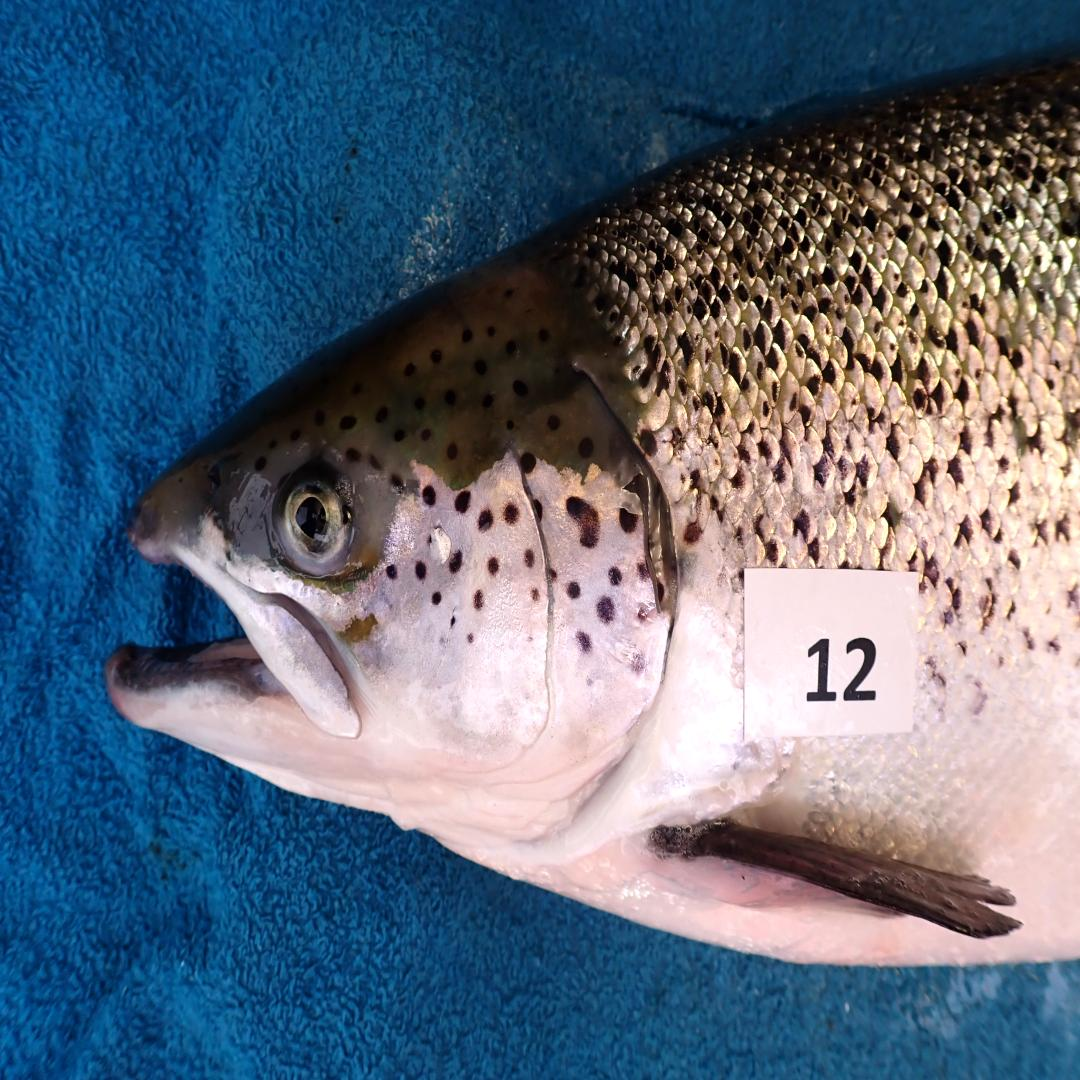roi: (355, 447, 676, 859)
